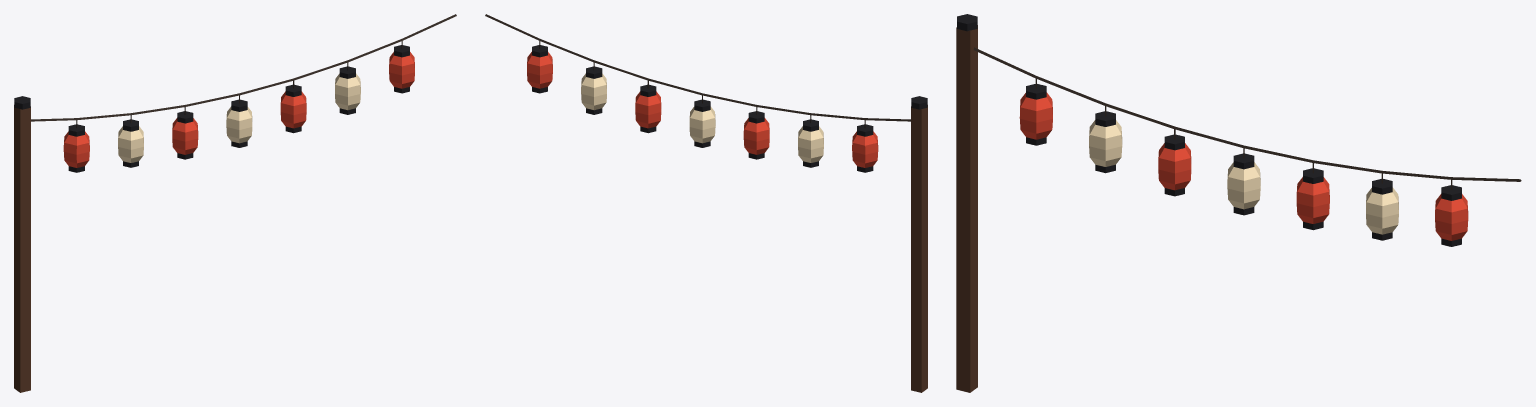
File: chochin-span.glb
3 views of the same model, side by side, from view 1: azimuth 30°, elevation 25°; view 2: azimuth 150°, elevation 25°; view 3: azimuth 330°, elevation 25° (orthographic). The views are drawn at different scales.
Parts seen in each view (by area): view 1: ChochinSpan_Pole, ChochinSpan_LanternA, ChochinSpan_LanternB, ChochinSpan_Caps, ChochinSpan_Wire; view 2: ChochinSpan_Pole, ChochinSpan_LanternA, ChochinSpan_LanternB, ChochinSpan_Caps, ChochinSpan_Wire; view 3: ChochinSpan_Pole, ChochinSpan_LanternA, ChochinSpan_LanternB, ChochinSpan_Caps, ChochinSpan_Wire.
Part boxes in pixels (bbox=[...]): ChochinSpan_Pole: bbox=[14, 105, 30, 392]; ChochinSpan_LanternA: bbox=[63, 52, 414, 167]; ChochinSpan_LanternB: bbox=[118, 73, 360, 162]; ChochinSpan_Caps: bbox=[14, 45, 409, 172]; ChochinSpan_Wire: bbox=[31, 14, 456, 127]; ChochinSpan_Pole: bbox=[911, 105, 927, 392]; ChochinSpan_LanternA: bbox=[527, 52, 878, 167]; ChochinSpan_LanternB: bbox=[581, 73, 823, 162]; ChochinSpan_Caps: bbox=[532, 45, 927, 172]; ChochinSpan_Wire: bbox=[485, 14, 910, 127]; ChochinSpan_Pole: bbox=[956, 25, 977, 392]; ChochinSpan_LanternA: bbox=[1019, 92, 1468, 240]; ChochinSpan_LanternB: bbox=[1089, 120, 1398, 234]; ChochinSpan_Caps: bbox=[957, 14, 1461, 246]; ChochinSpan_Wire: bbox=[973, 47, 1521, 189].
Size of the model in its own units: 24.46 by 15.3 by 1.25.
